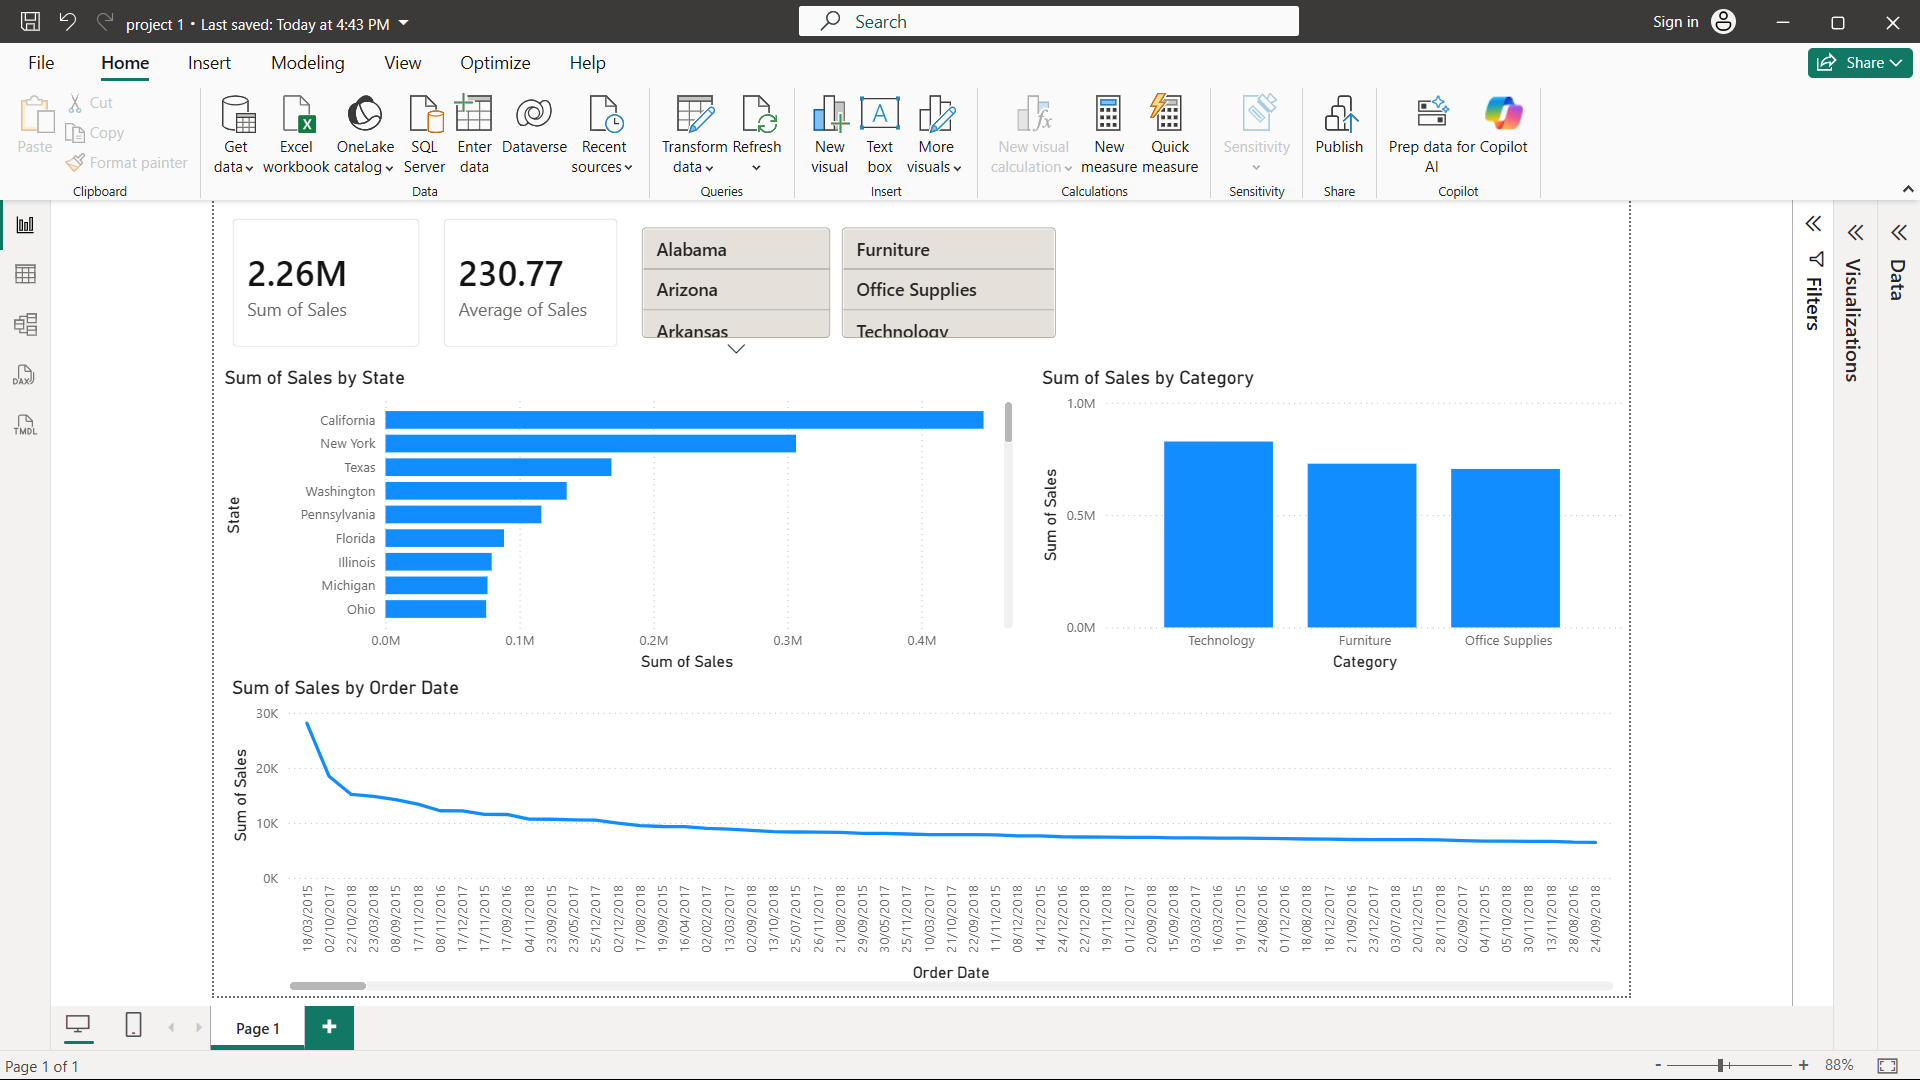

Layout of this report page (visuals, bound fields, positions):
{"tool":"powerbi","page":{"name":"Page 1","canvas":[1280,720],"ordinal":0},"visuals":[{"type":"barChart","fields":{"Y":["Sum(train.Sales)"],"Category":["train.State"]},"box":[4.7,150,723.3,280.2],"z":0},{"type":"columnChart","fields":{"Y":["Sum(train.Sales)"],"Category":["train.Category"]},"box":[744.2,150,536,280.2],"z":1000},{"type":"lineChart","fields":{"Y":["Sum(train.Sales)"],"Category":["train.Order Date"]},"box":[11.3,430.8,1259.6,289.4],"z":2000},{"type":"cardVisual","fields":{"Data":["Sum(train.Sales)"]},"box":[0,0,203.5,150],"z":3000},{"type":"cardVisual","fields":{"Rows":["train.State"]},"box":[382.6,0,180.2,150],"z":4000},{"type":"cardVisual","fields":{"Rows":["train.Category"]},"box":[562.8,0,203.5,150],"z":5000},{"type":"cardVisual","fields":{"Data":["Avg(train.Sales)"]},"box":[191.1,0,191.1,150.4],"z":6000}]}

Visuals, with their boxes on the page's 1280x720 design canvas (x1, y1, x2, y2). These are canvas units, not pixel positions in the 1920x1080 screenshot, which may show the page scaled, cropped or inside an application window:
barChart - Sum(train.Sales) x train.State: bbox=(5, 150, 728, 430)
columnChart - Sum(train.Sales) x train.Category: bbox=(744, 150, 1280, 430)
lineChart - Sum(train.Sales) x train.Order Date: bbox=(11, 431, 1271, 720)
cardVisual - Sum(train.Sales): bbox=(0, 0, 204, 150)
cardVisual - train.State: bbox=(383, 0, 563, 150)
cardVisual - train.Category: bbox=(563, 0, 766, 150)
cardVisual - Avg(train.Sales): bbox=(191, 0, 382, 150)
